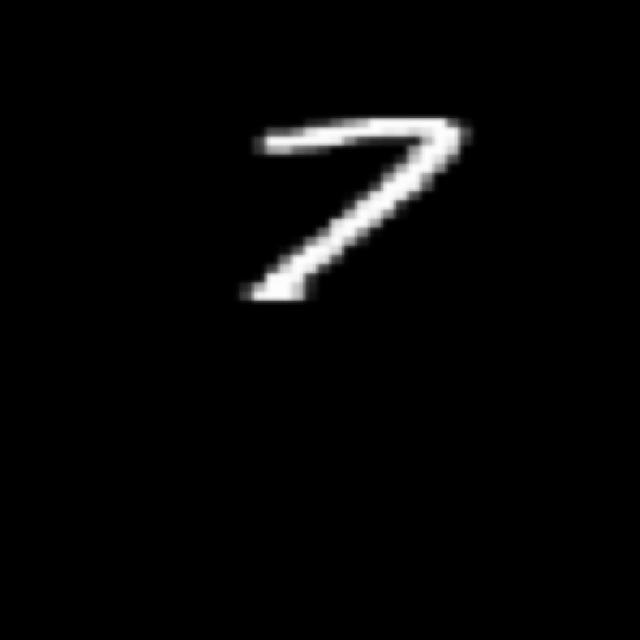seven -7-: (237, 105, 480, 313)
